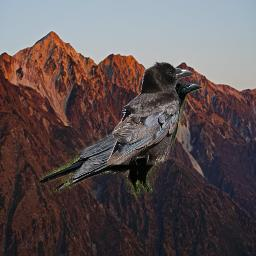Crow: (38, 81, 203, 197), (105, 61, 195, 165)
